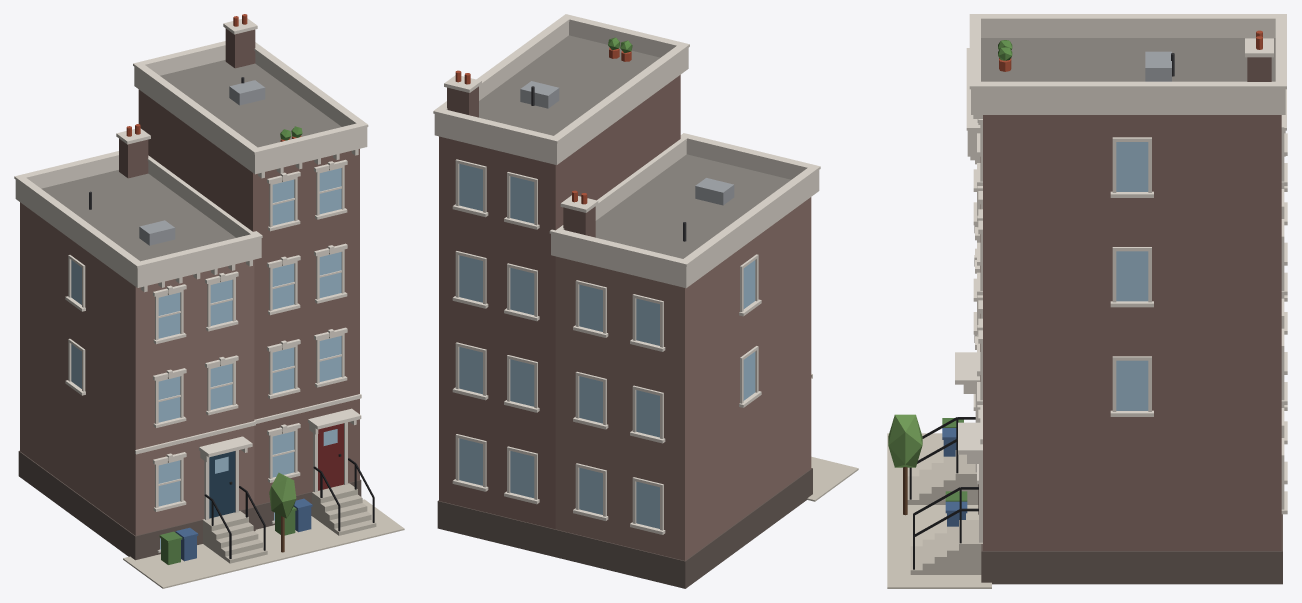
The model's file is SiraEv_karisik_1_3_Hafif.fbx.
3 renders of one model, left to right at view 1: azimuth 30°, elevation 25°; view 2: azimuth 150°, elevation 25°; view 3: azimuth 270°, elevation 25°, orthographic. The views are drawn at different scales.
Parts seen in each view (by area): view 1: SiraEv_karisik_1_3_Hafif; view 2: SiraEv_karisik_1_3_Hafif; view 3: SiraEv_karisik_1_3_Hafif.
Boxes of the visible parts, x1,y1,x2,y2 form: SiraEv_karisik_1_3_Hafif: [14, 14, 404, 588]; SiraEv_karisik_1_3_Hafif: [433, 14, 858, 588]; SiraEv_karisik_1_3_Hafif: [887, 14, 1287, 588].
Bounding box in the file's own units: 9.04 × 14.82 × 9.95.
